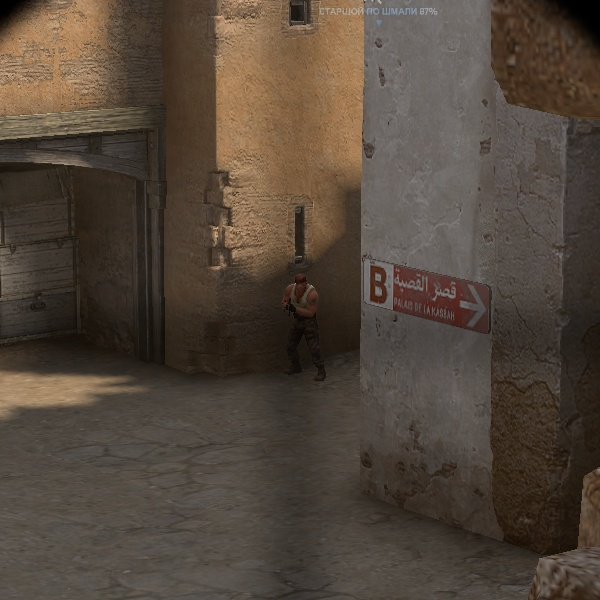t_body: (278, 274, 323, 379)
t_head: (294, 274, 308, 294)
